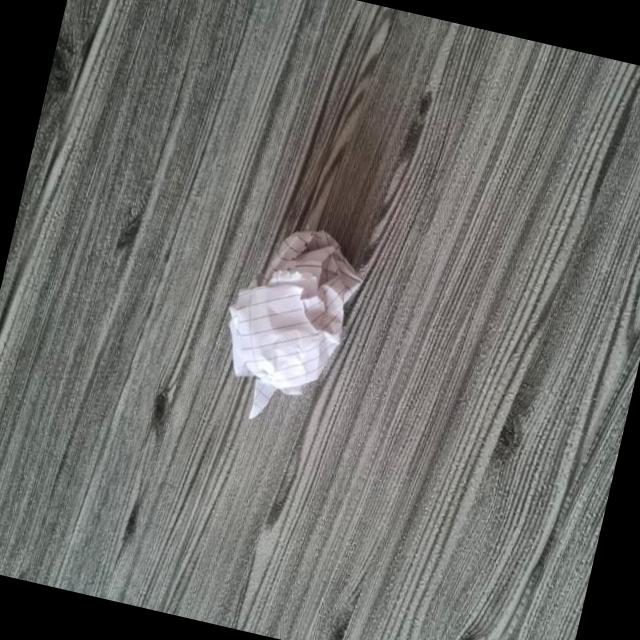cardboard paper: (226, 233, 359, 419)
